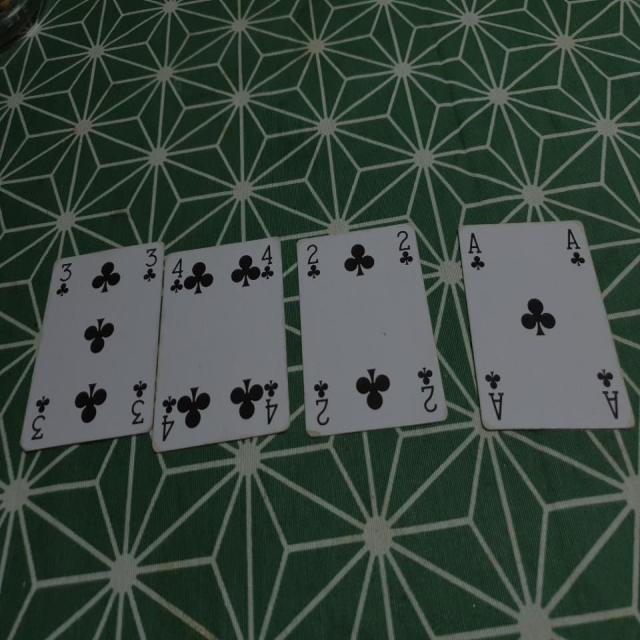2 Trefoils: (296, 218, 449, 439)
3 Trefoils: (19, 237, 166, 450)
4 Trefoils: (152, 234, 293, 454)
A Trefoils: (458, 215, 635, 432)
